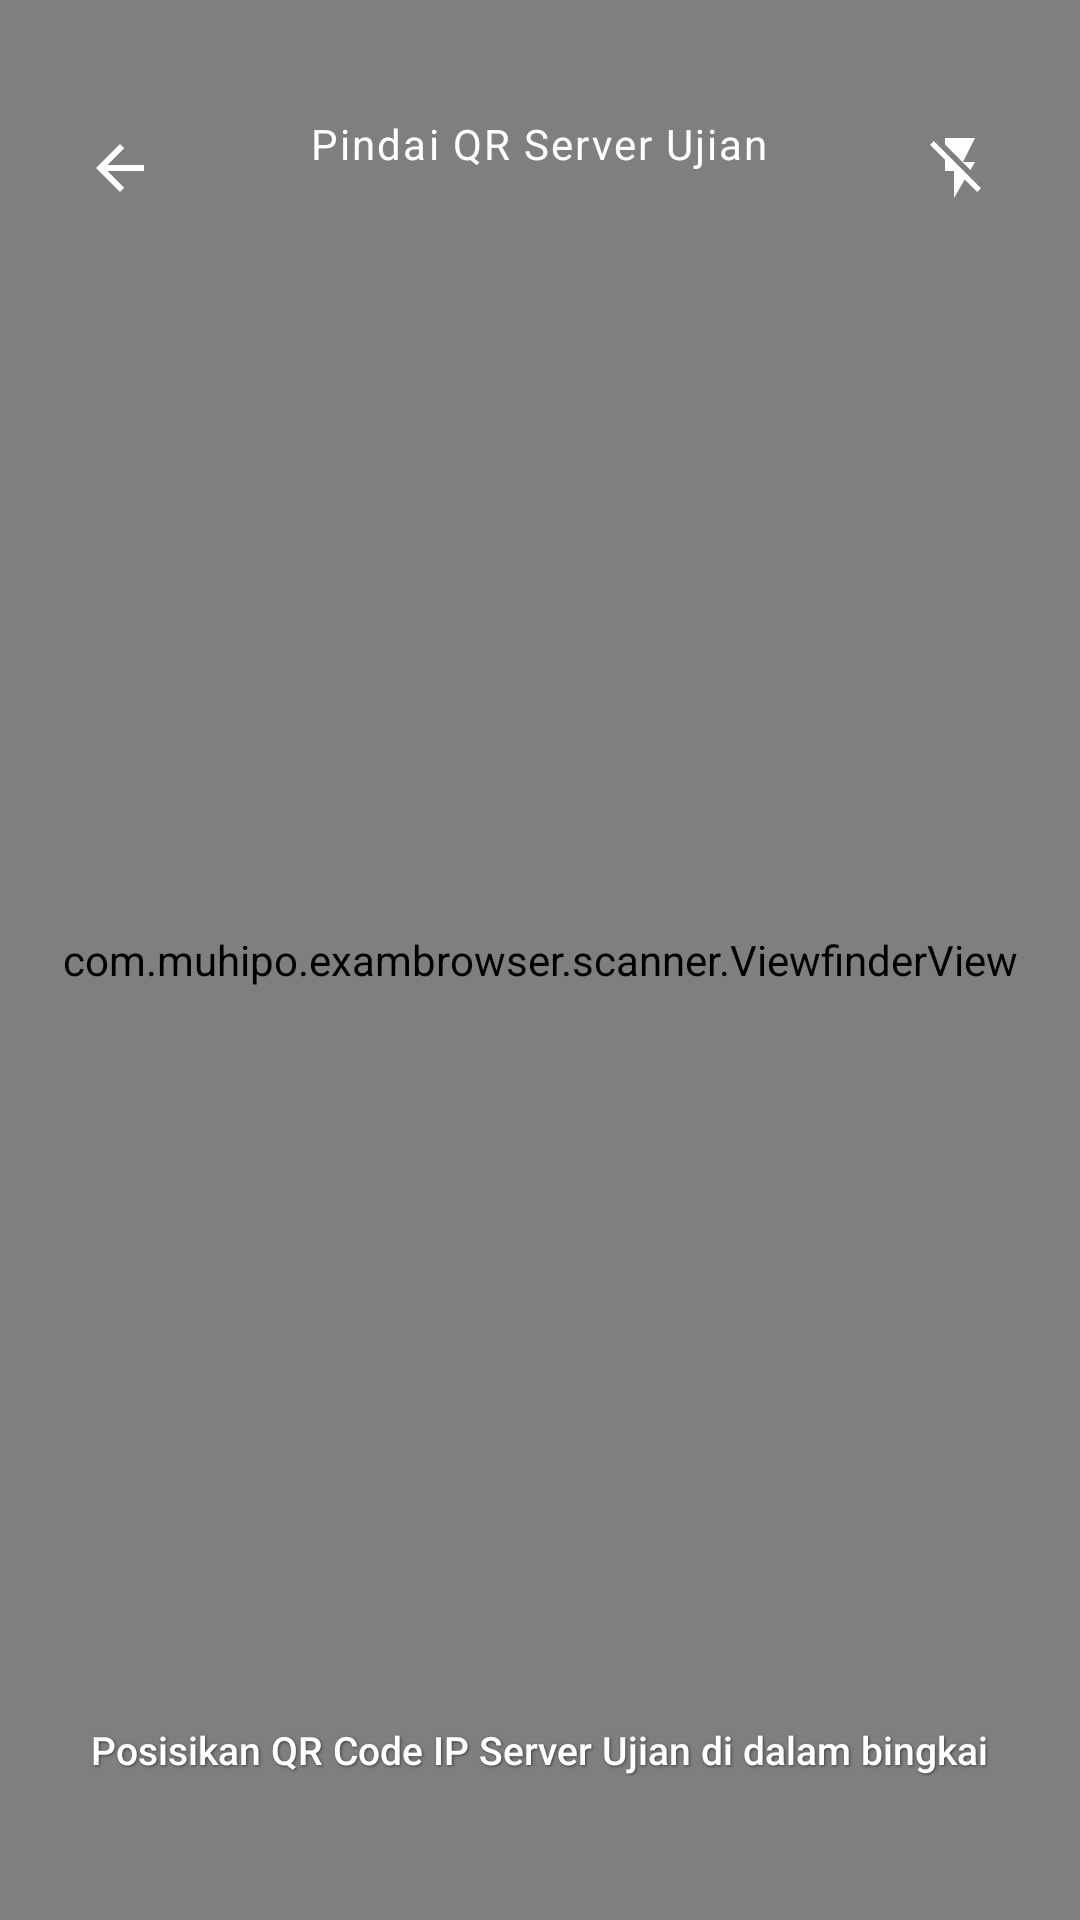

Screen size 1080x1920. Icon name, then its center in pixels as (x,y):
Flash: (955,168)
